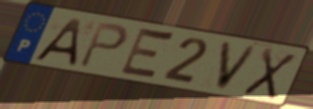2: (160, 37, 212, 87)
A: (31, 16, 84, 67)
E: (116, 25, 178, 83)
P: (76, 20, 131, 71)
V: (213, 39, 261, 93)
X: (239, 45, 299, 101)
